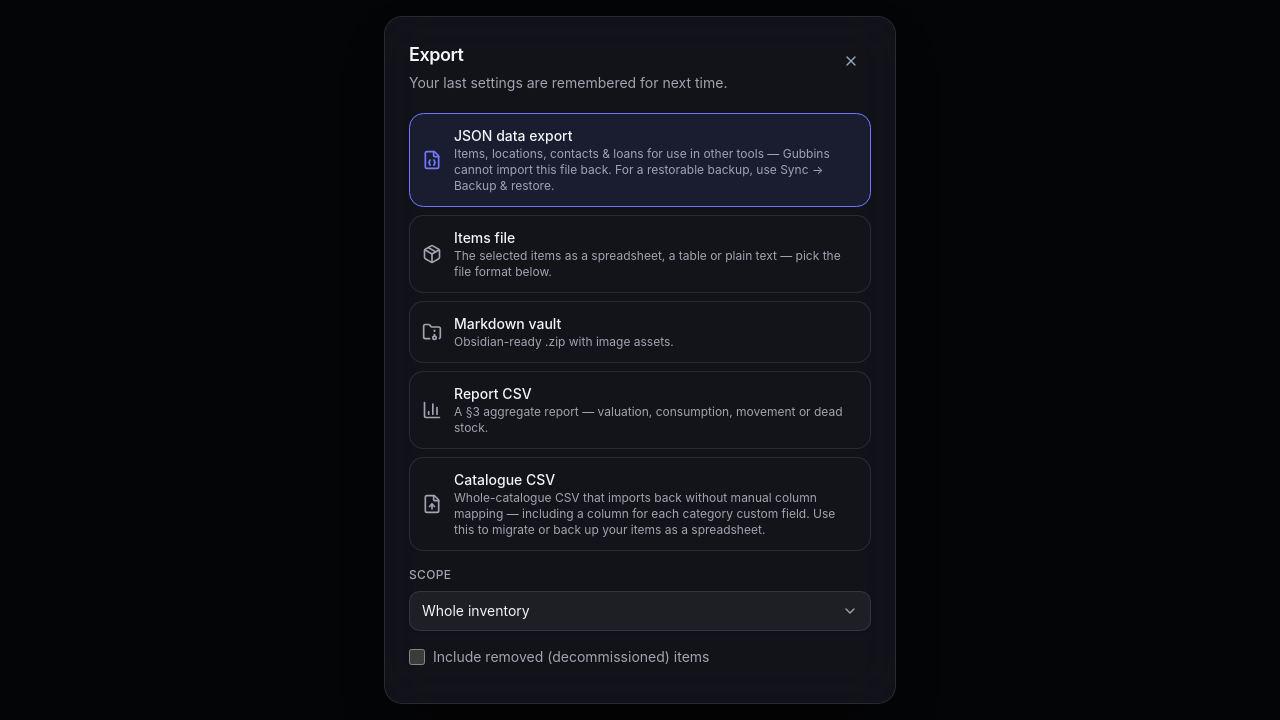
Scenario: ExportWizard — items file format (issue #132) › offers the same seven formats the BOM and reorder list do
Click the button "Items file" at x=640, y=254, box [409,215,871,293]
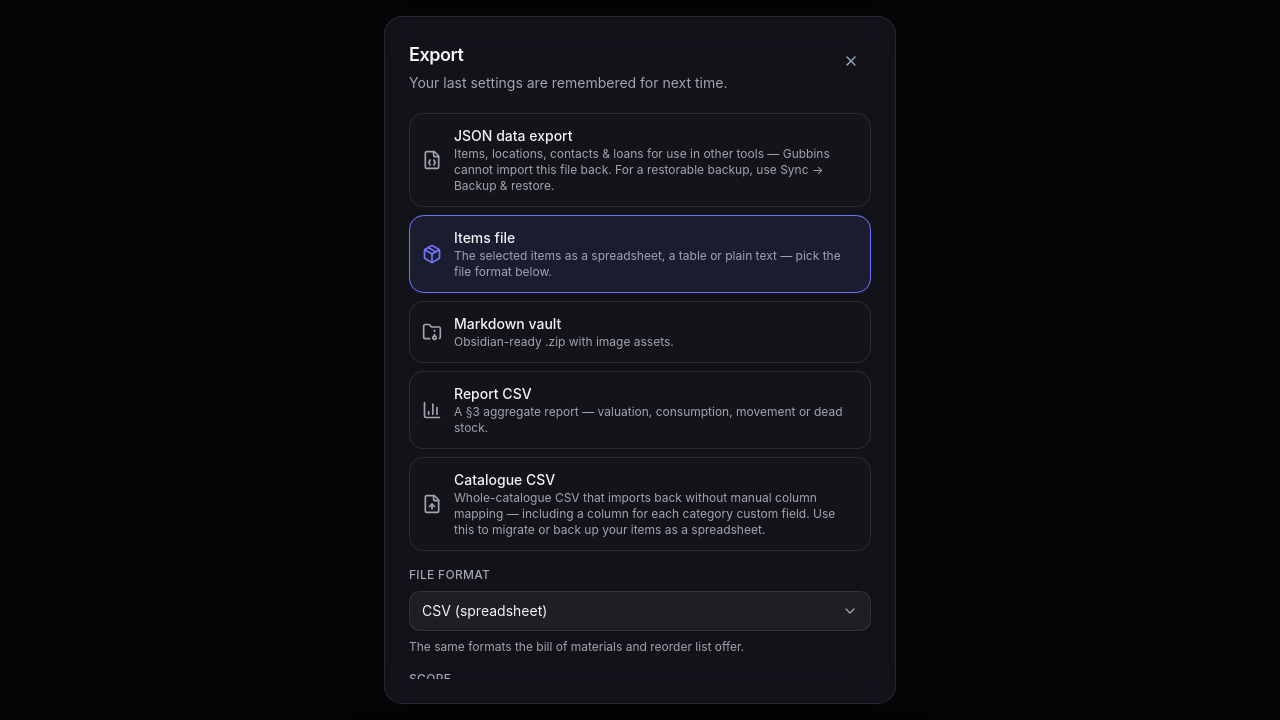
Click the dropdown with test id "export-item-file-format" at x=640, y=611, box [409,591,871,631]
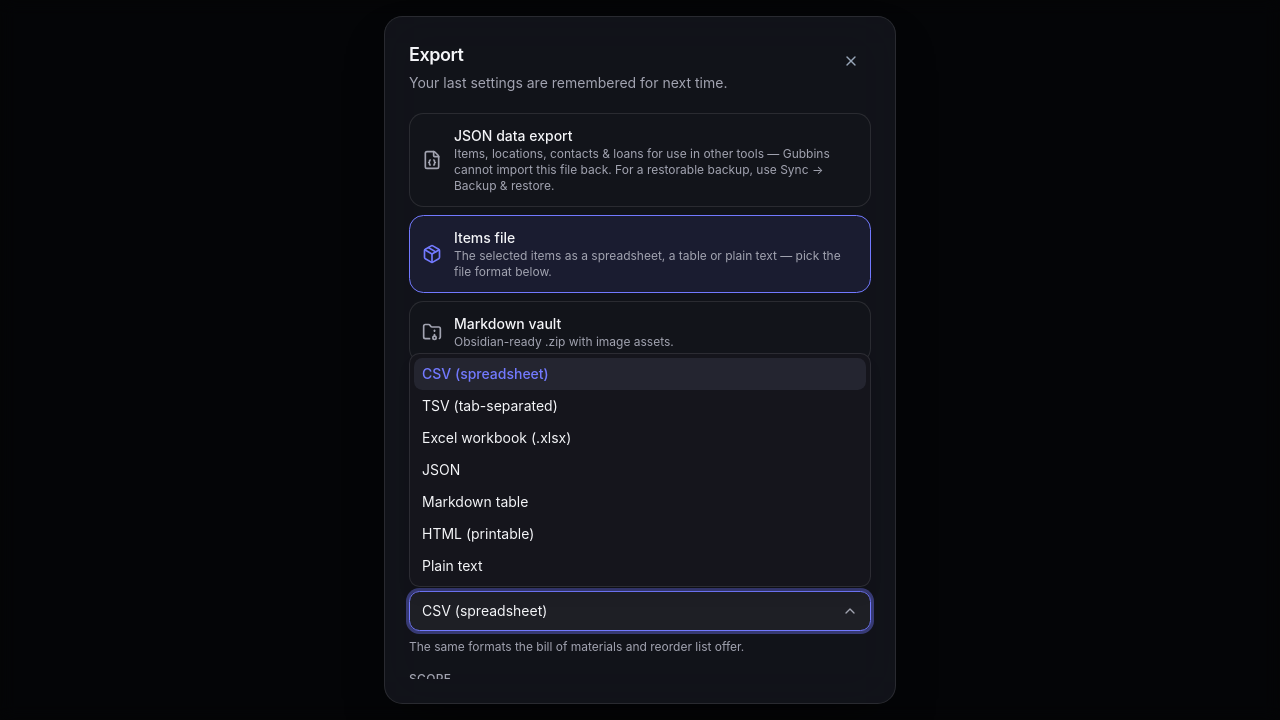
Expected: the option "CSV (spreadsheet)" is shown, [414,358,866,390]
Expected: the option "TSV (tab-separated)" is shown, [422,397,558,414]
Expected: the option "Excel workbook (.xlsx)" is shown, [422,429,571,446]
